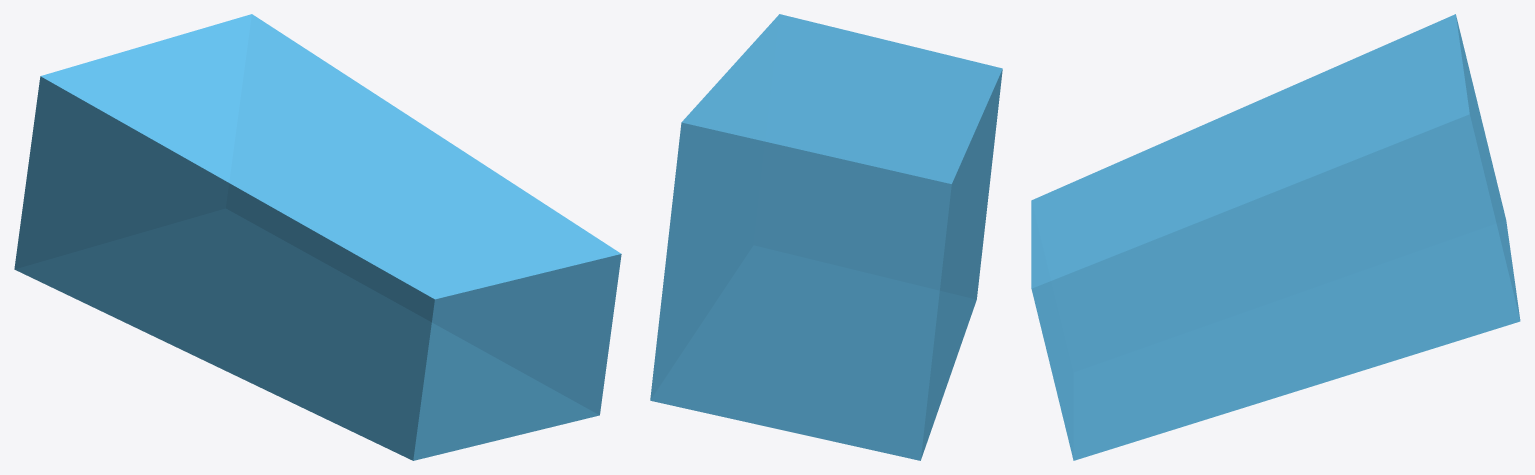
File: Event_420604493_HBrechit_12.fbx
The picture shows the model from 3 angles, left to right: view 1: azimuth 30°, elevation 25°; view 2: azimuth 150°, elevation 25°; view 3: azimuth 270°, elevation 25°; orthographic projection. The views are drawn at different scales.
Parts seen in each view (by area): view 1: Model; view 2: Model; view 3: Model.
Part boxes in pixels (left/top/right/bottom): Model: left=14, top=14, right=621, bottom=460; Model: left=650, top=14, right=1002, bottom=460; Model: left=1031, top=14, right=1520, bottom=460.
Size of the model in its own units: 0.8388 by 0.6346 by 1.01.
